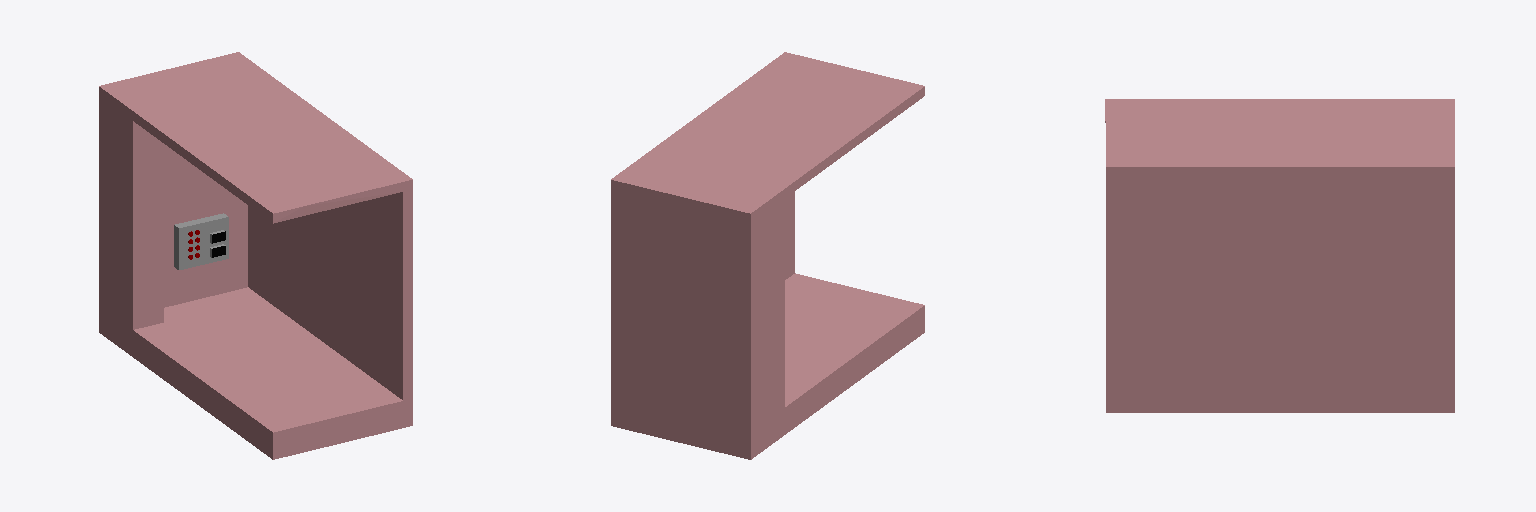
The model's file is elevator.obj.
3 renders of one model, left to right at view 1: azimuth 30°, elevation 25°; view 2: azimuth 150°, elevation 25°; view 3: azimuth 270°, elevation 25°, orthographic.
Visible parts, largest first — view 1: Cube.043_Cube.045, Cube.042_Cube; view 2: Cube.043_Cube.045, Cube.042_Cube; view 3: Cube.043_Cube.045, Cube.042_Cube.
Part boxes in pixels (x1,y1,x2,y2): Cube.043_Cube.045: (99, 52, 412, 400); Cube.042_Cube: (99, 287, 412, 459); Cube.043_Cube.045: (611, 52, 924, 432); Cube.042_Cube: (611, 273, 924, 459); Cube.043_Cube.045: (1105, 99, 1454, 385); Cube.042_Cube: (1106, 386, 1454, 412).
Bounding box in the file's own units: 8.27 × 13.91 × 17.87.